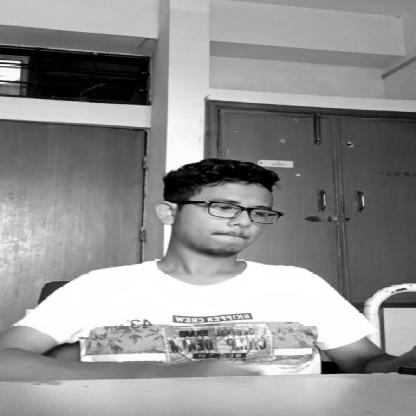Distracted: (145, 156, 288, 256)
